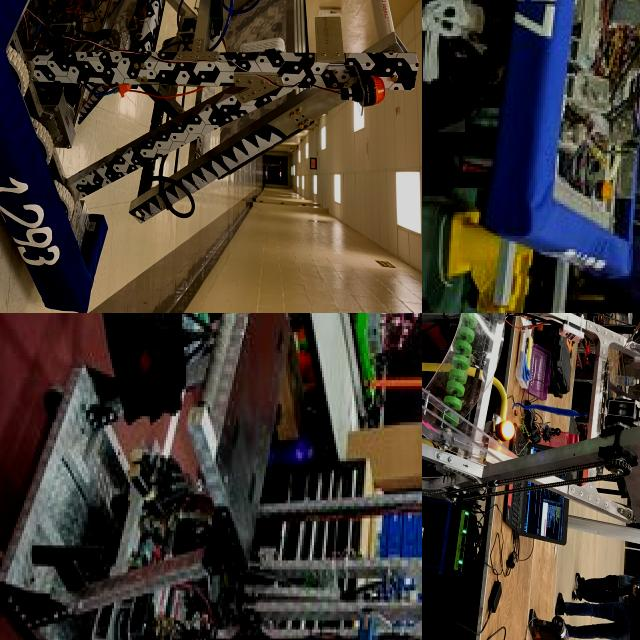FRC-Robots: (0, 0, 422, 313), (71, 395, 422, 640), (422, 313, 640, 553), (491, 0, 640, 313)
